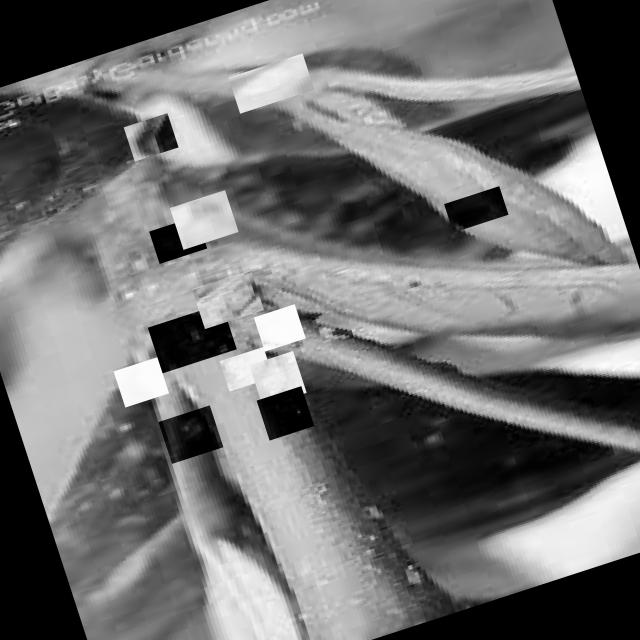scale_insect: (148, 304, 237, 374), (228, 54, 314, 114), (192, 270, 264, 328), (170, 190, 238, 250), (158, 404, 224, 464), (250, 351, 306, 407), (256, 386, 314, 440), (444, 186, 508, 232), (150, 216, 208, 264), (114, 357, 169, 407), (124, 112, 178, 160), (254, 304, 306, 352), (220, 346, 274, 392)
